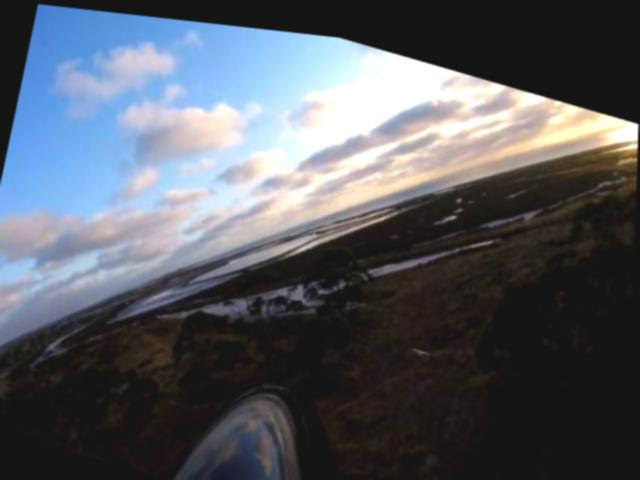uav: (409, 327, 437, 353)
